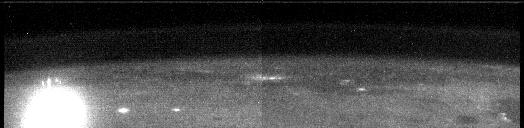positive: (37, 75, 60, 89)
